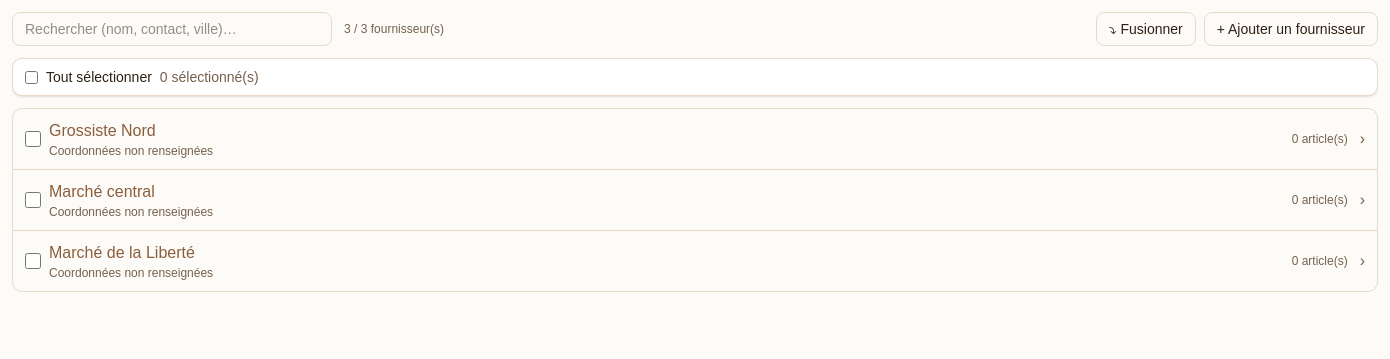
Test: Fournisseurs — actions groupées › un fournisseur refusé (achats directs) est nommé dans le bilan
Step 1. Click the checkbox named "Sélectionner Grossiste Nord" → (33, 139), box [25, 131, 41, 147]
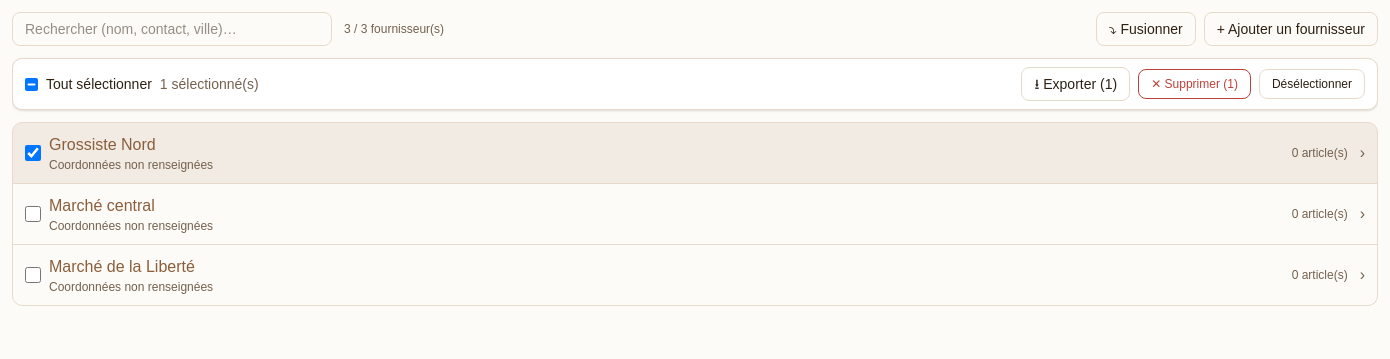
Step 2. Click the checkbox named "Sélectionner Marché central" → (33, 214), box [25, 206, 41, 222]
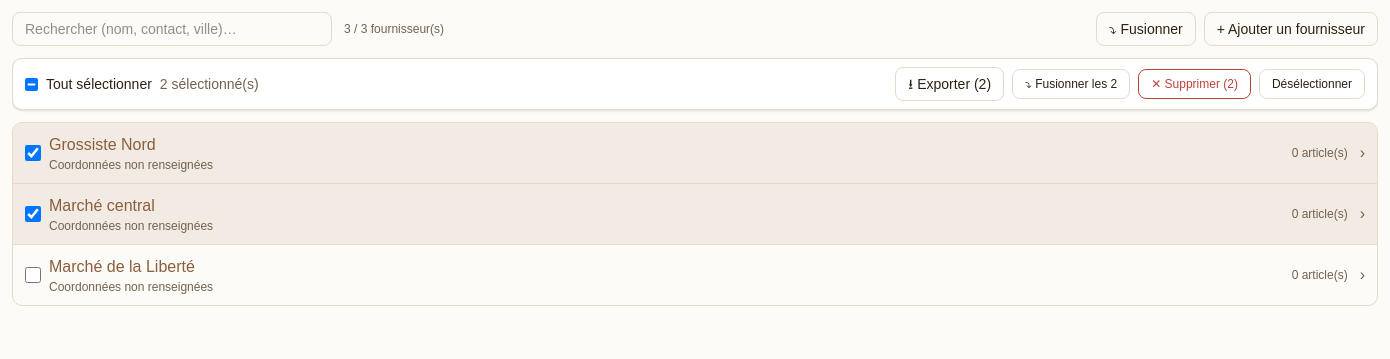
Step 3. Click the button "✕ Supprimer (2)" → (1195, 84), box [1138, 69, 1251, 99]
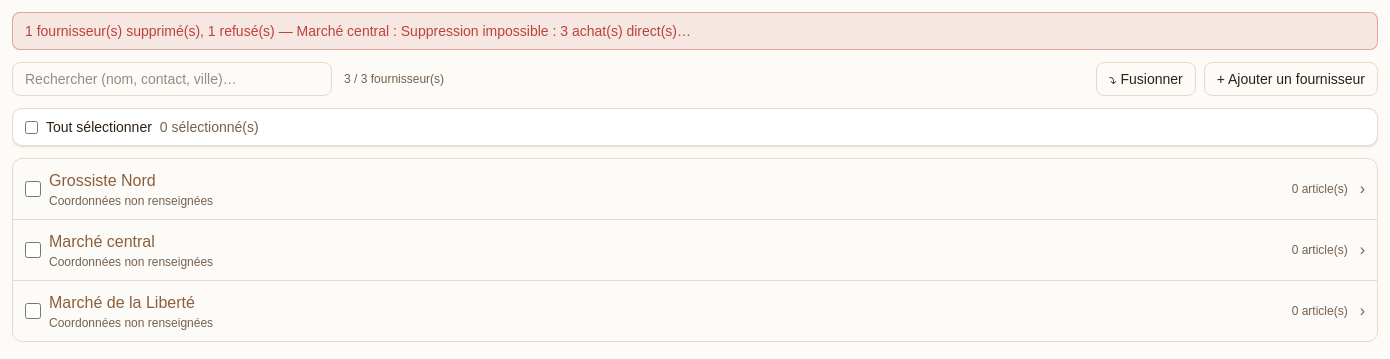
Check: the message shows "1 fournisseur(s) supprimé(s), 1 refusé(s) — Marché central : Suppression impossible", box [25, 23, 691, 39]
